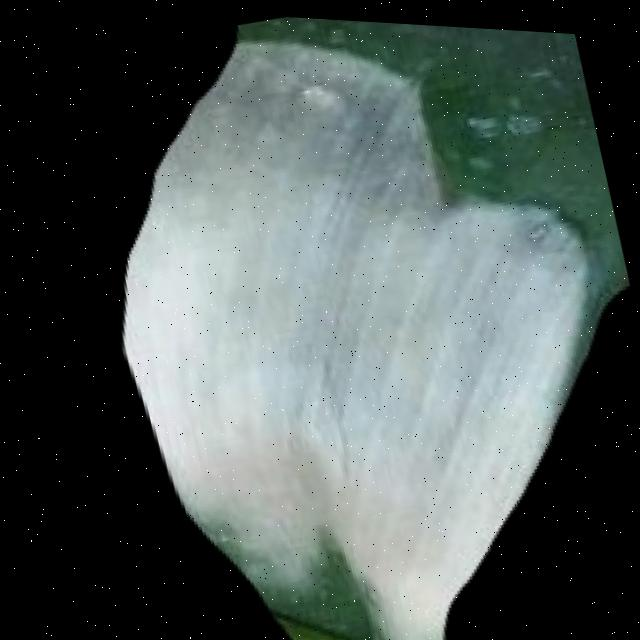mite: (404, 19, 608, 206), (449, 76, 564, 175), (461, 92, 552, 149), (501, 102, 549, 139), (464, 103, 509, 140), (461, 144, 502, 178), (522, 212, 557, 241)
